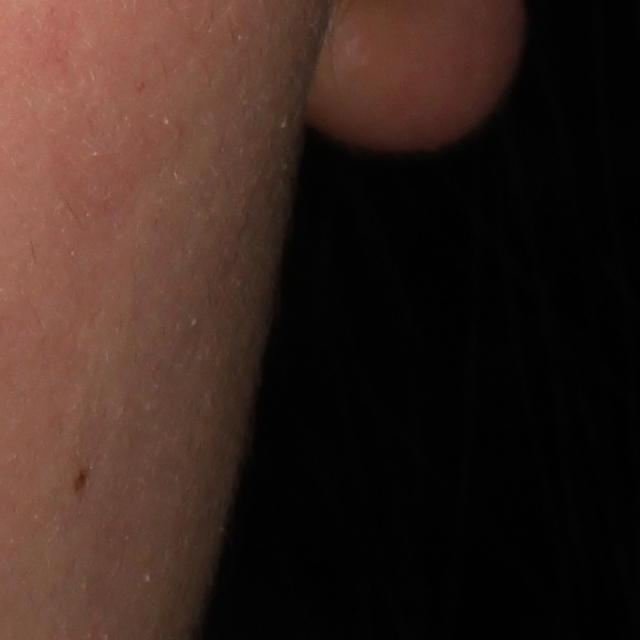nevus: (68, 464, 91, 499)
